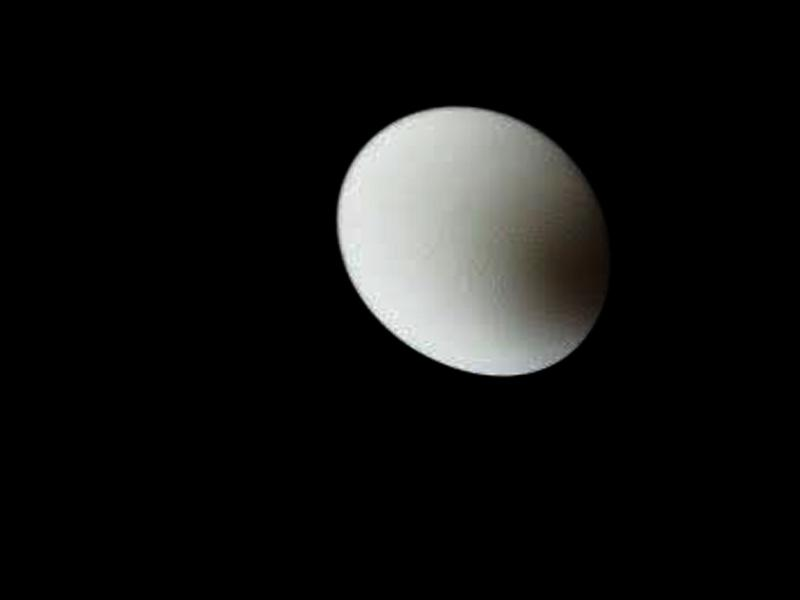Eggs: (335, 106, 608, 378)
